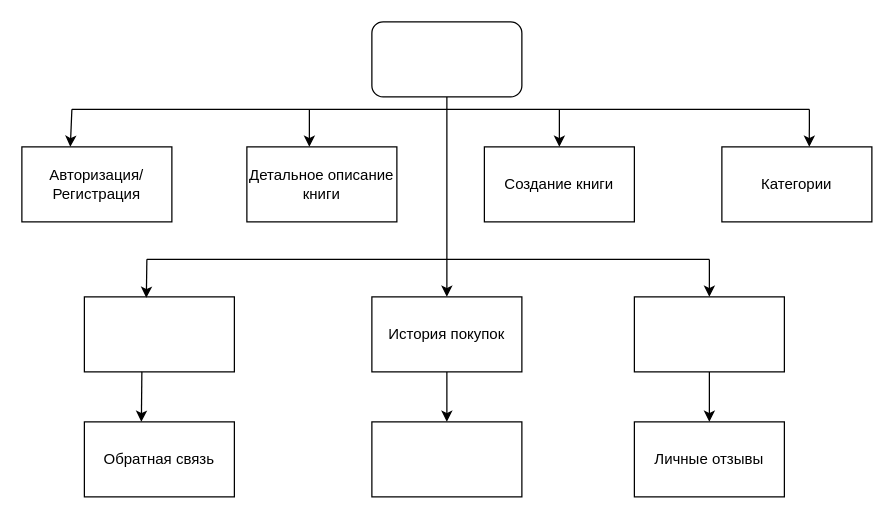
This 894x519 diagram has some shape labels left out. Here are the shapes that lost their labels. From the top down, the centre of each, then its label:
the point at 446,59: Главная страница
the point at 158,334: Корзина
the point at 708,334: Отзывы
the point at 446,459: Детализация истории
